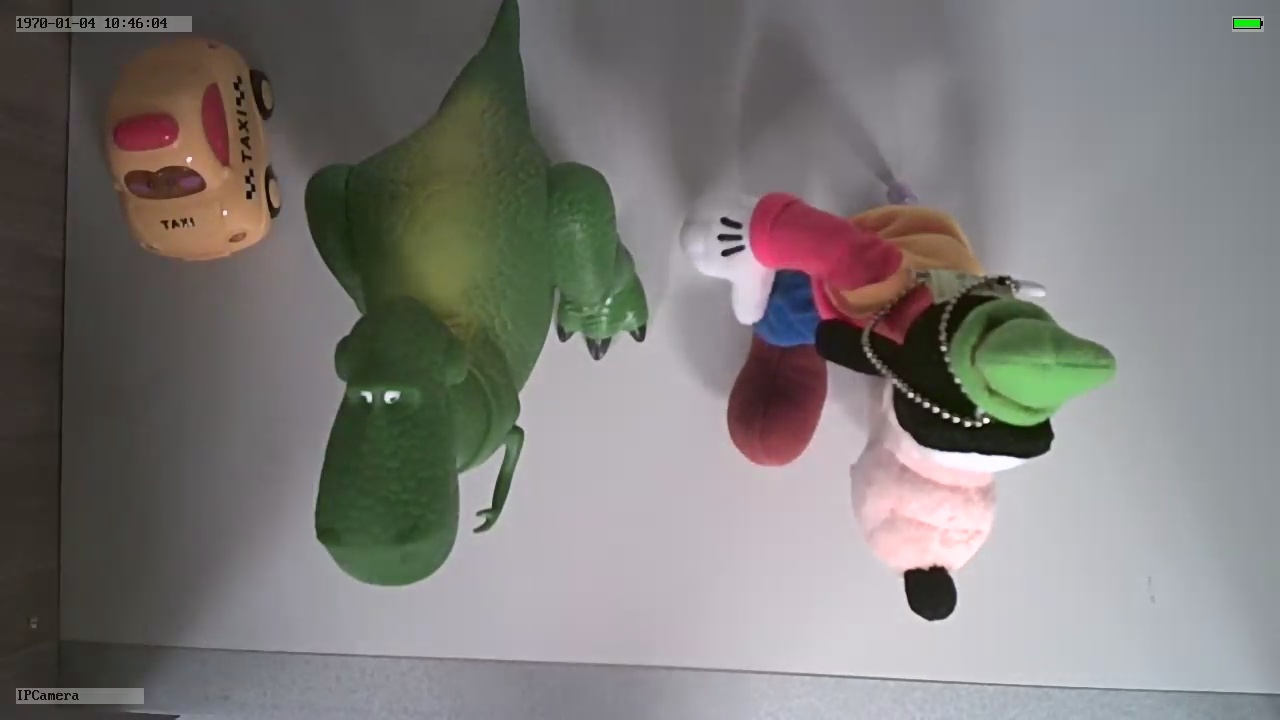car: (97, 37, 286, 262)
goofy: (672, 182, 1118, 626)
rex: (301, 64, 648, 585)
